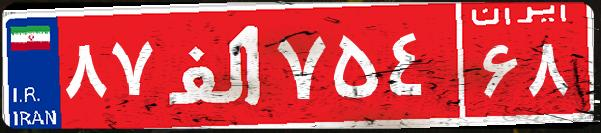4: (385, 28, 445, 110)
5: (330, 28, 385, 110)
6: (475, 38, 525, 113)
7: (273, 28, 330, 110), (110, 28, 158, 105)
8: (57, 26, 110, 107), (525, 38, 570, 115)
الف: (158, 15, 273, 115)
